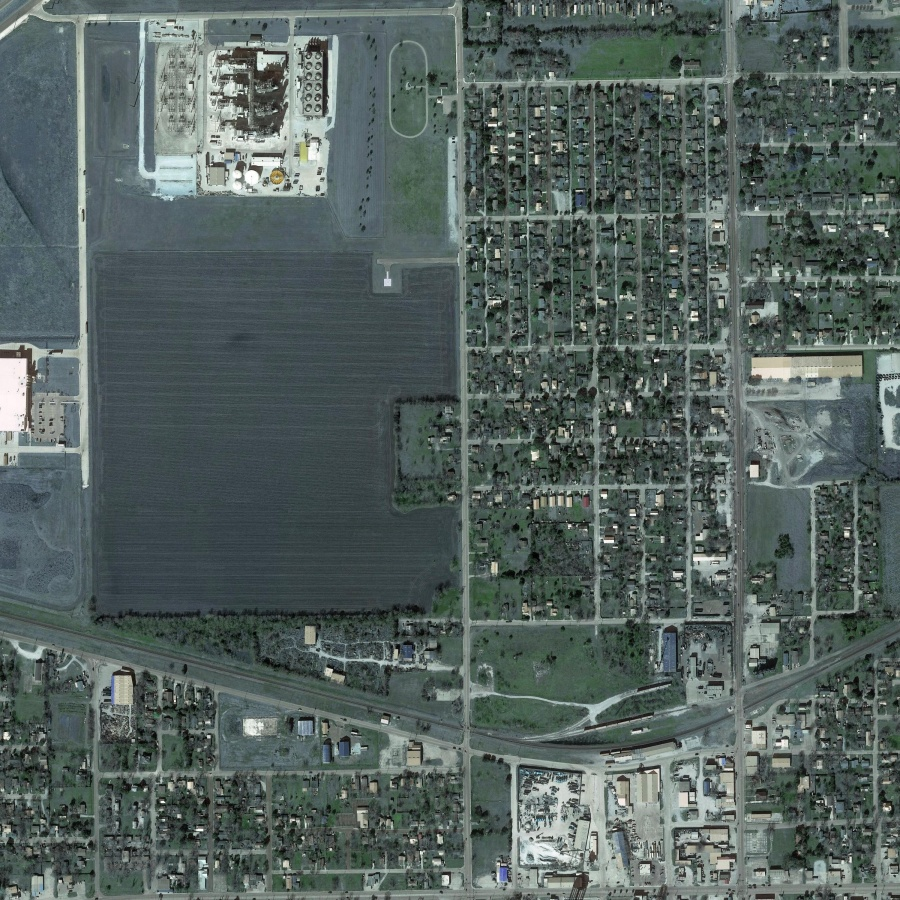PowerPlant: (141, 14, 335, 203)
